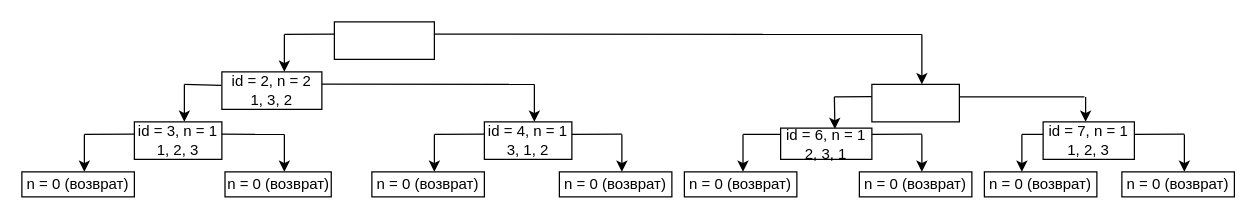
This 1256x219 diagram has some shape labels left out. The shapes that lost their labels are listed below. From the top down, each one's box as (x1, y1, x2, y2) in pixels, then its label:
(333, 21, 434, 59): id = 1, n = 3 1, 2, 3
(871, 83, 959, 122): id = 5, n = 2 2, 1, 3
